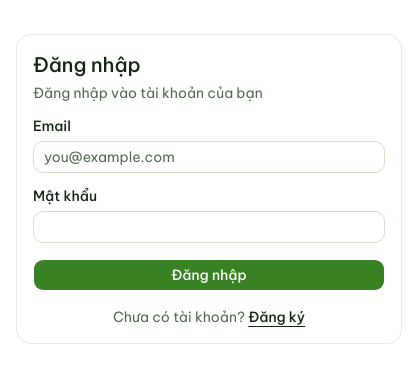
Test: LoginPage › shows the backend error message when login fails
Type "customer@example.com" into the field labelled "Email".
click(209, 157); type("customer@example.com")  # box 33,141 -> 385,173
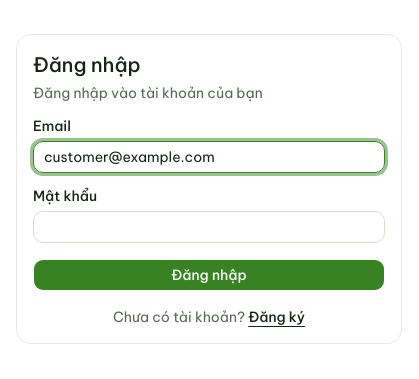
Type "SecurePassword123!" into the password field labelled "Mật khẩu".
click(209, 227); type("SecurePassword123!")  # box 33,211 -> 385,243
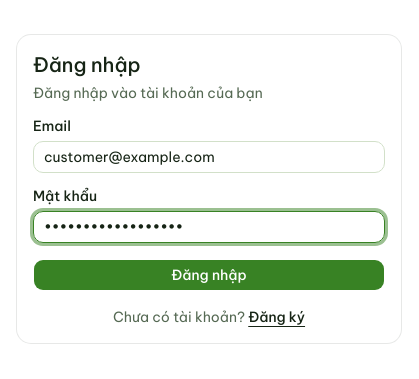
Click the button "Đăng nhập".
click(209, 275)  # box 33,259 -> 385,291
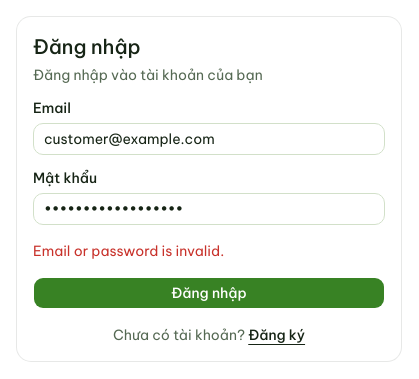
Now the message reads "Email or password is invalid.", box 33,242 -> 224,260
